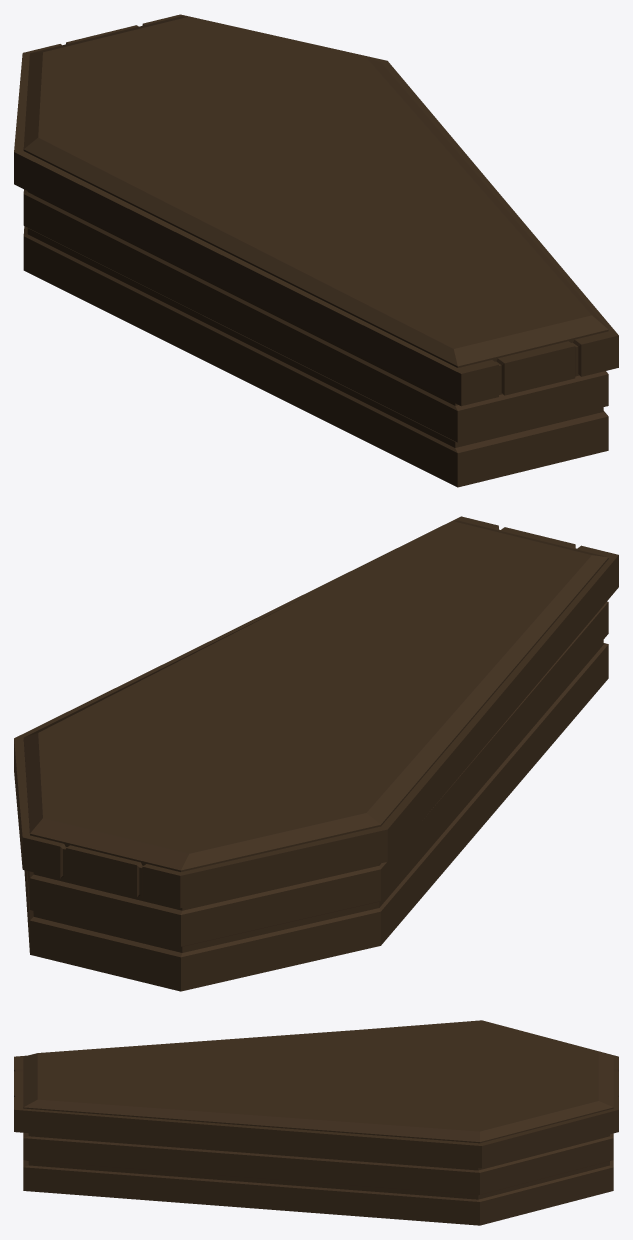
The model's file is Capstone_Coffen1_Rebecca.fbx.
The picture shows the model from 3 angles, top to bottom: view 1: azimuth 30°, elevation 25°; view 2: azimuth 150°, elevation 25°; view 3: azimuth 270°, elevation 25°; orthographic projection. The views are drawn at different scales.
Parts seen in each view (by area): view 1: Cube.002; view 2: Cube.002; view 3: Cube.002.
Part boxes in pixels (x1,y1,x2,y2): Cube.002: (14, 14, 618, 487); Cube.002: (14, 516, 618, 991); Cube.002: (14, 1020, 618, 1225).
Size of the model in its own units: 64.71 by 21.4 by 132.
